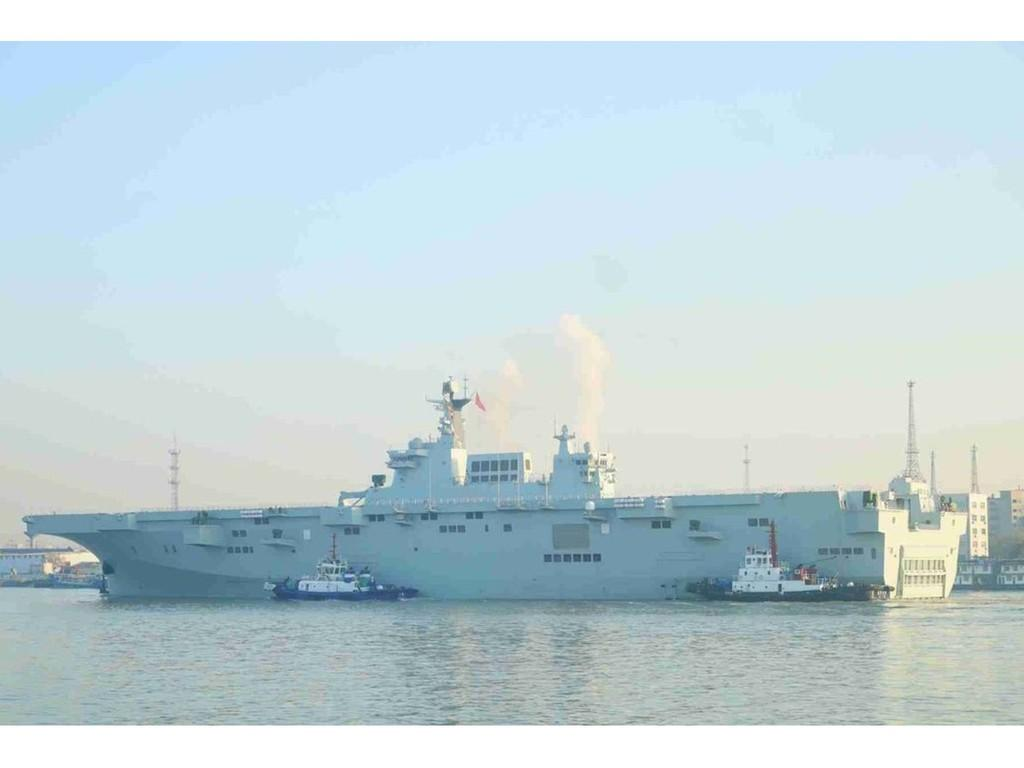Warship: (24, 374, 970, 606)
